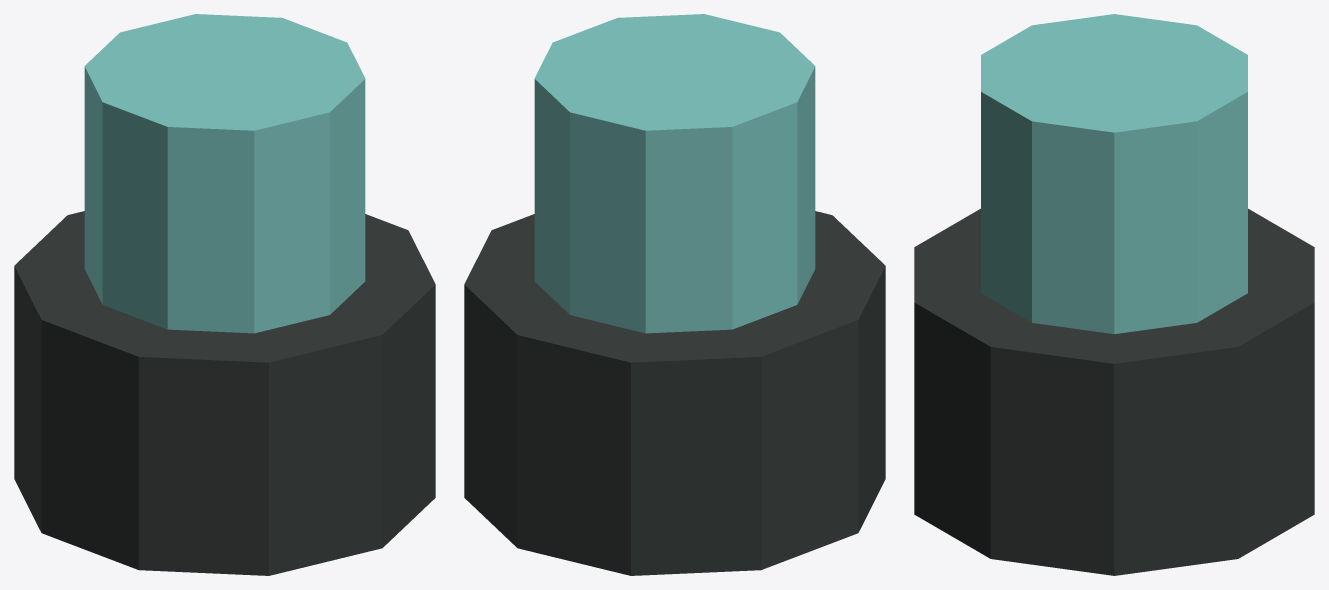
Rendered from Bastion_MASH_BeaconSpin.obj.
The picture shows the model from 3 angles, left to right: view 1: azimuth 30°, elevation 25°; view 2: azimuth 150°, elevation 25°; view 3: azimuth 270°, elevation 25°; orthographic projection.
Parts seen in each view (by area): view 1: Bastion_MASH_BeaconSpin; view 2: Bastion_MASH_BeaconSpin; view 3: Bastion_MASH_BeaconSpin.
Boxes of the visible parts, <box> form: Bastion_MASH_BeaconSpin: <box>14,14,435,575</box>; Bastion_MASH_BeaconSpin: <box>464,14,885,575</box>; Bastion_MASH_BeaconSpin: <box>914,14,1314,575</box>.
Size of the model in its own units: 0.36 by 0.39 by 0.3424.
Materials: 1 (1 with a texture image).
